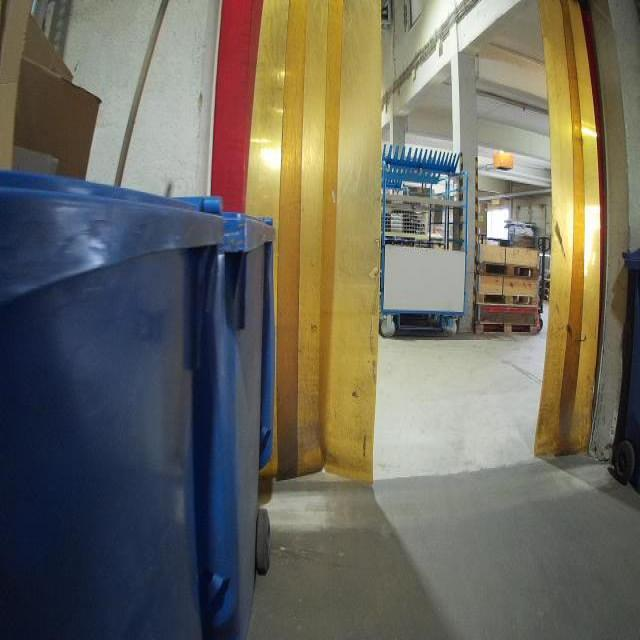pallet: (474, 256, 541, 284), (473, 291, 539, 310), (473, 322, 542, 340)
pallet_truck: (533, 228, 555, 339)
stillage: (382, 190, 433, 238)
